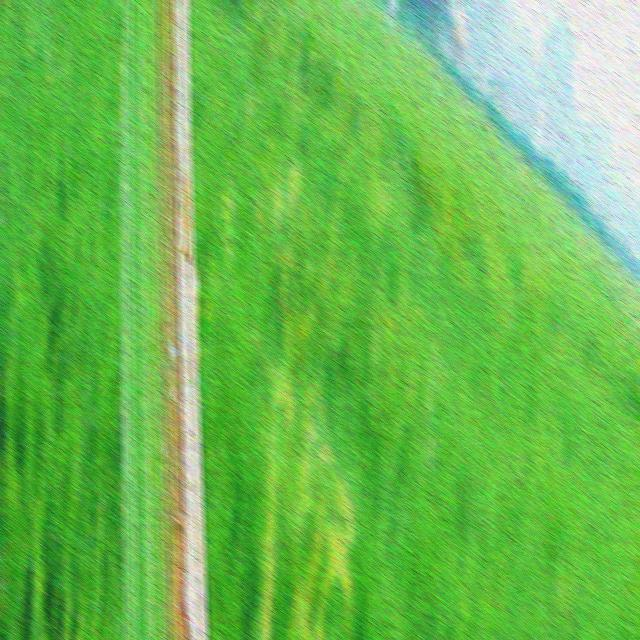BLB: (170, 0, 209, 640)
